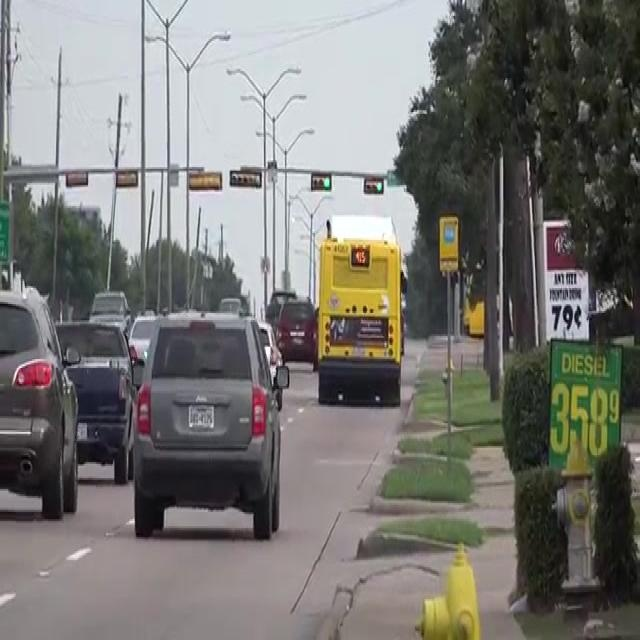Bus: (310, 217, 404, 403)
